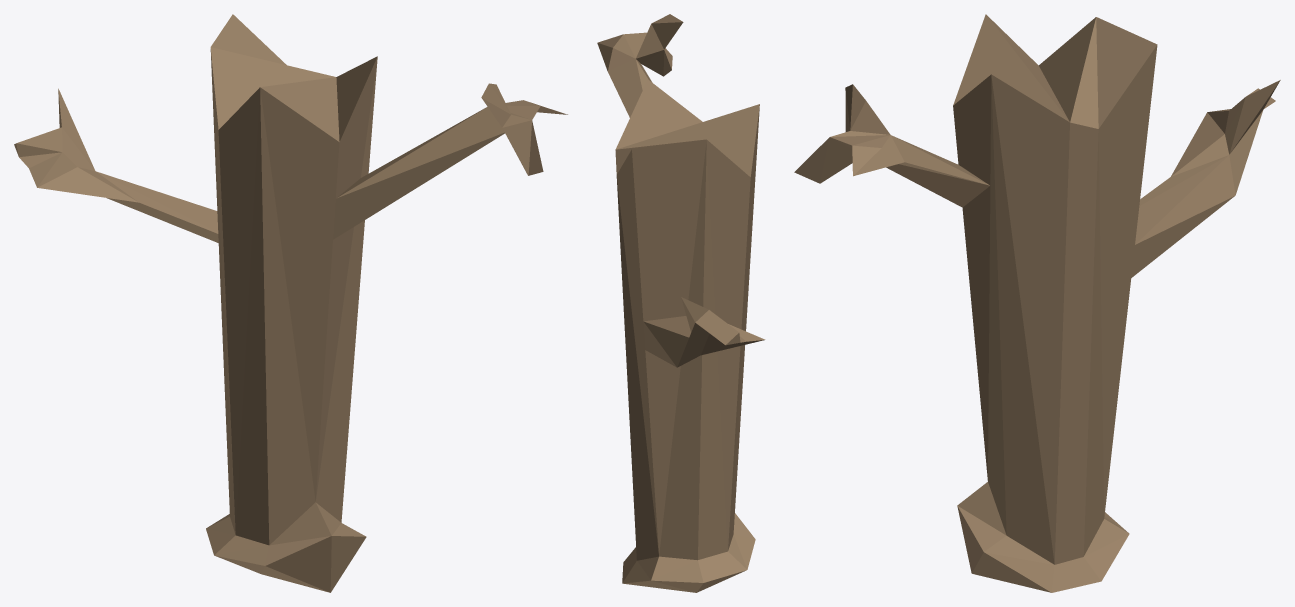
The model's file is FallenTree.fbx.
3 views of the same model, side by side, from view 1: azimuth 30°, elevation 25°; view 2: azimuth 150°, elevation 25°; view 3: azimuth 270°, elevation 25° (orthographic). The views are drawn at different scales.
Visible parts, largest first — view 1: Cone; view 2: Cone; view 3: Cone.
Boxes of the visible parts, x1=… form: Cone: x1=14, y1=14, x2=567, y2=592; Cone: x1=597, y1=14, x2=765, y2=592; Cone: x1=794, y1=14, x2=1280, y2=592.
Size of the model in its own units: 161 by 228 by 185.
